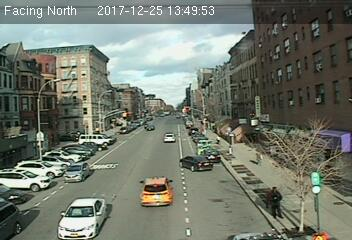car: (57, 199, 111, 240), (137, 177, 175, 206), (62, 163, 92, 183), (178, 155, 212, 171), (204, 148, 221, 164), (163, 132, 175, 143)
pedestrian: (266, 185, 284, 223)
